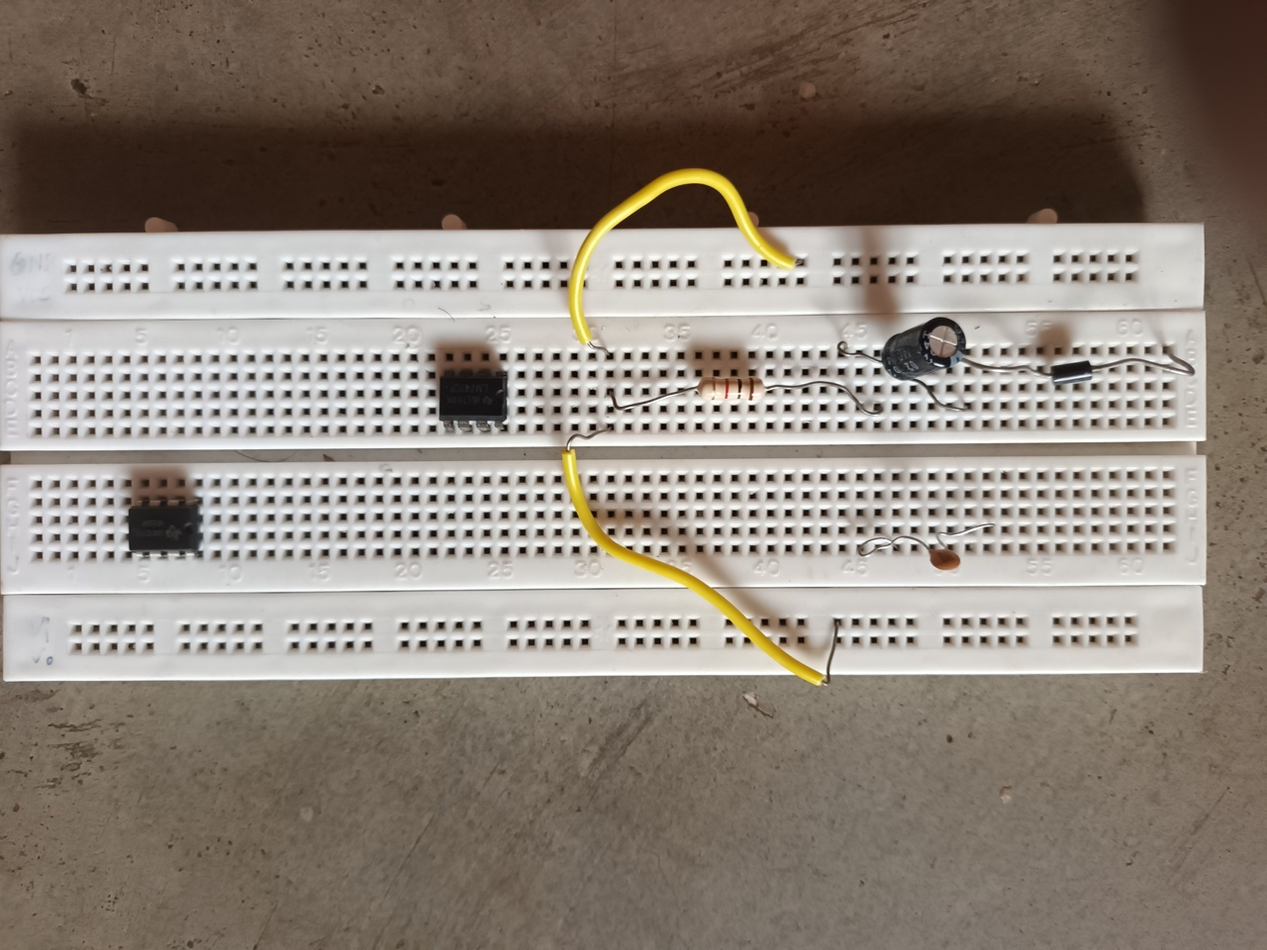capacitor: (882, 317, 967, 382), (928, 546, 962, 573)
resistor: (697, 375, 767, 404)
